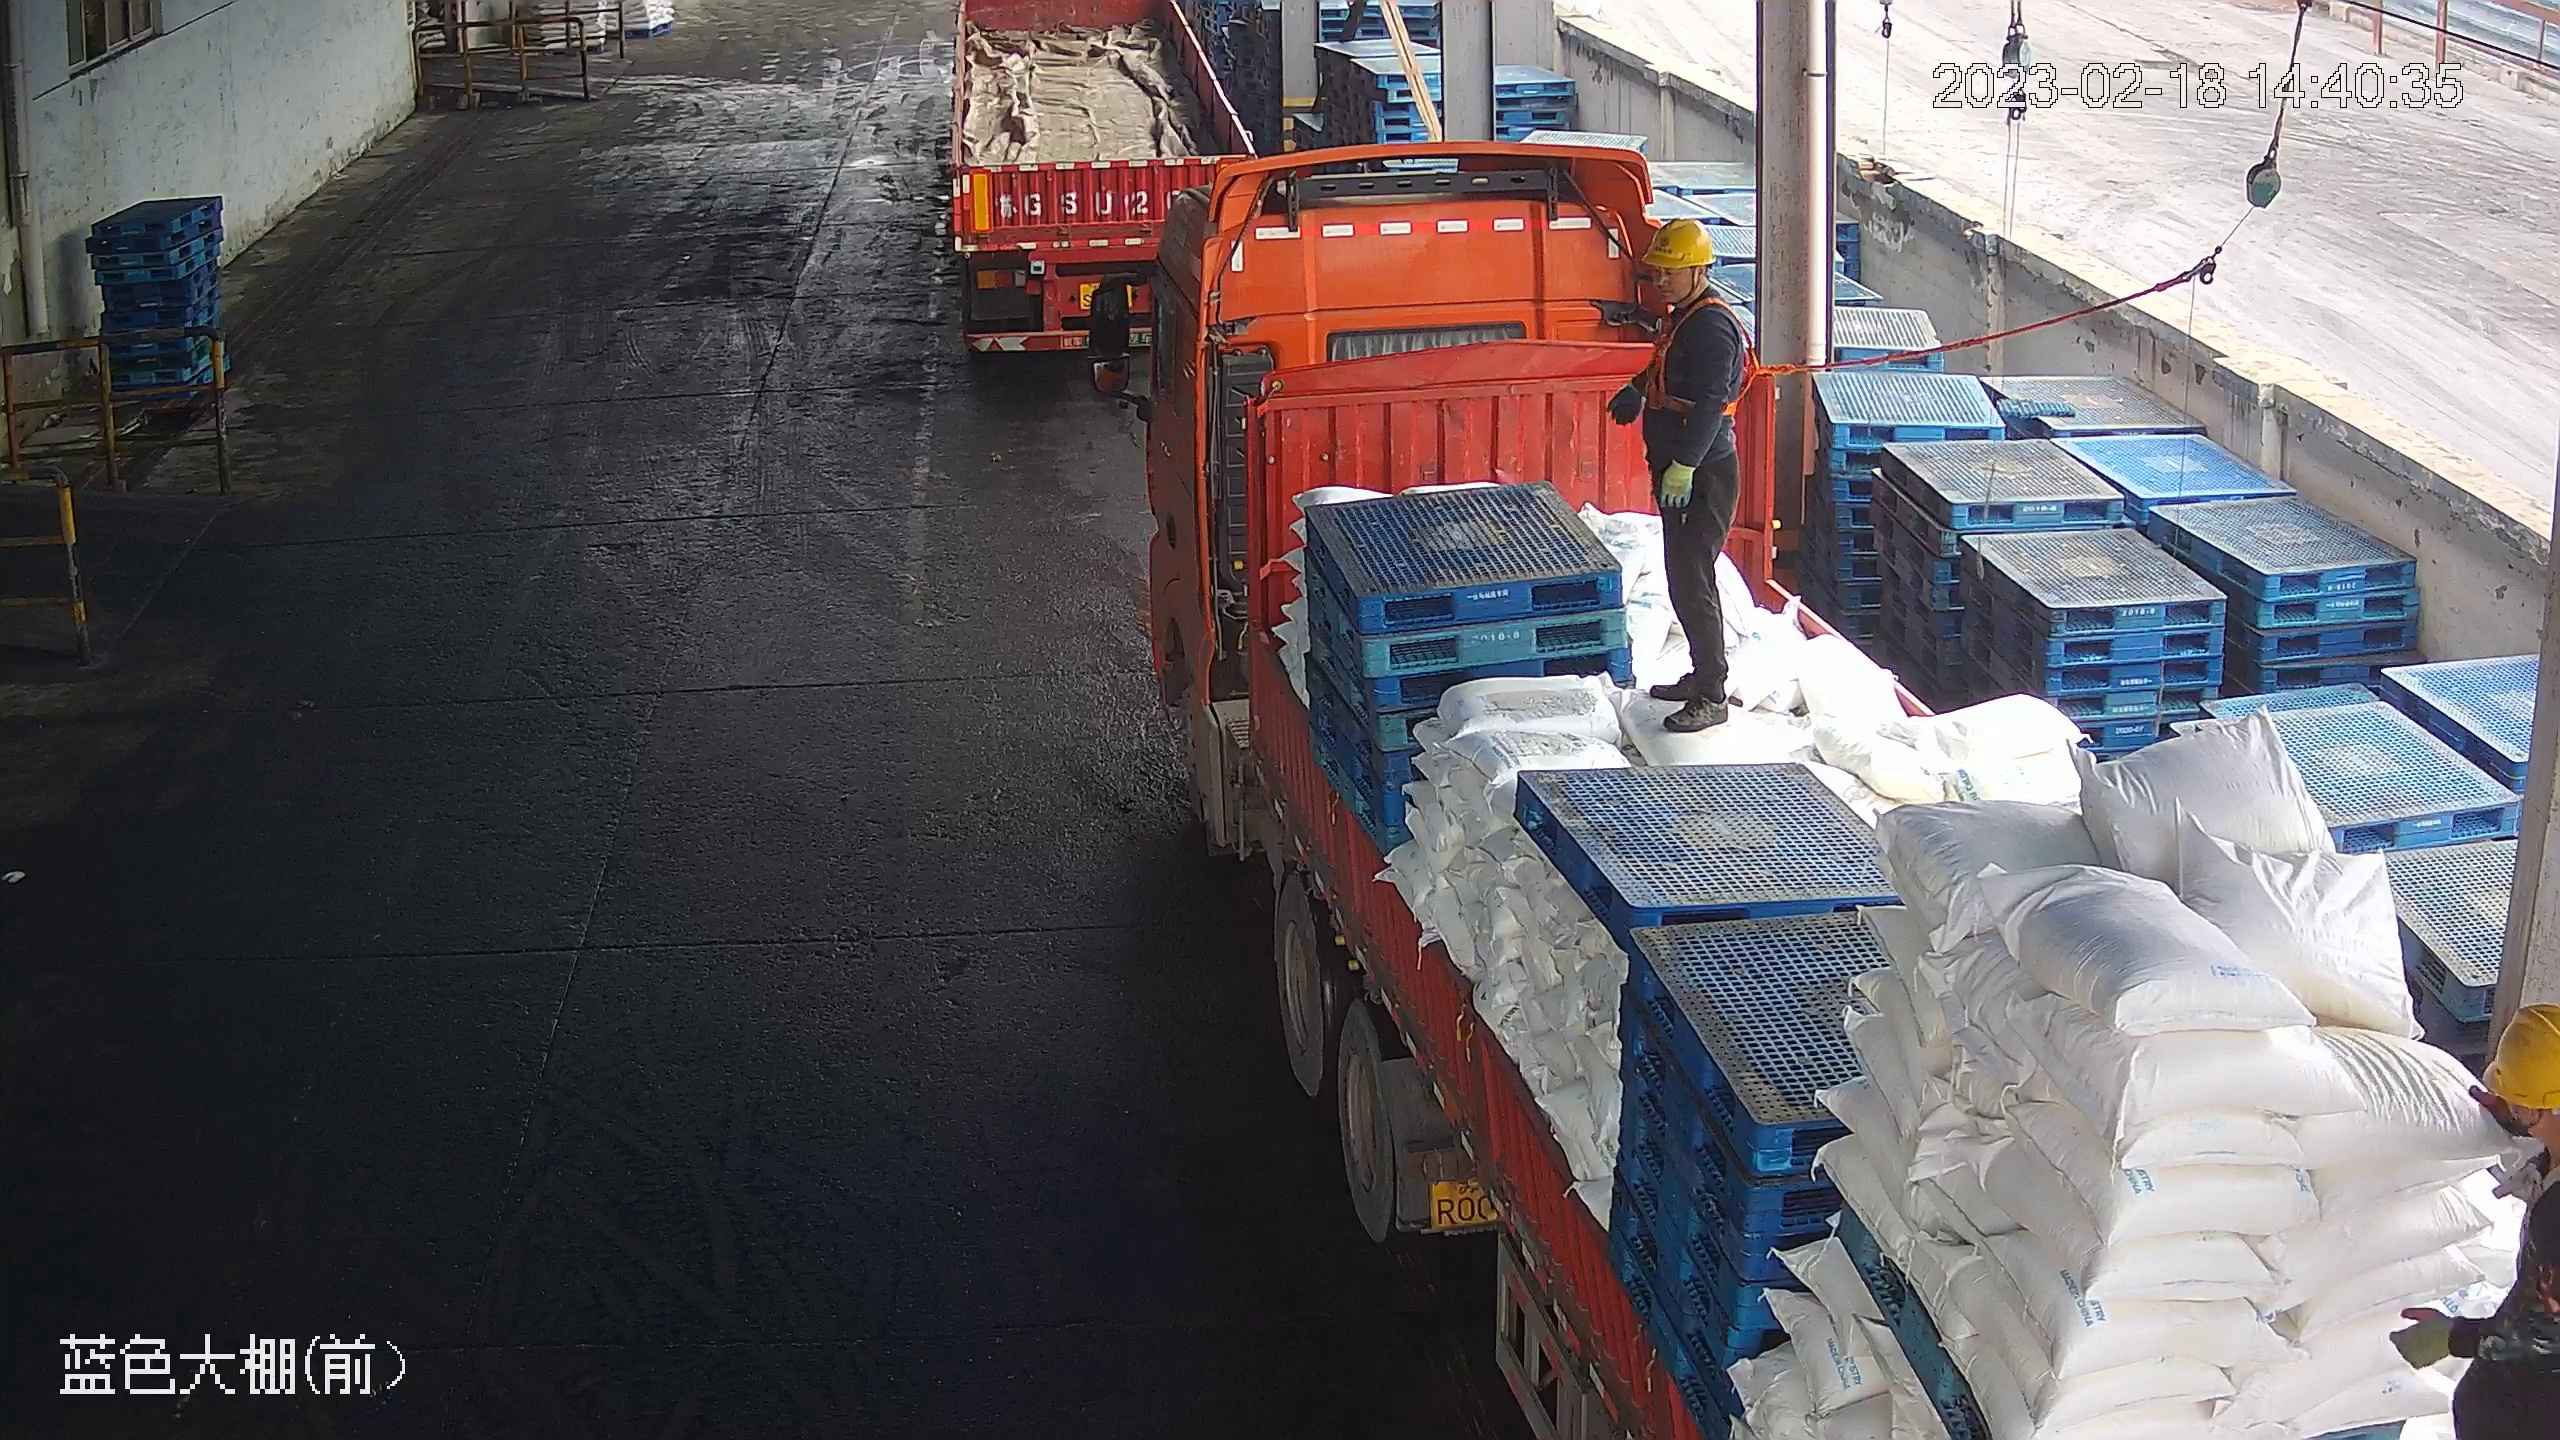belt: (1644, 293, 1760, 419), (2519, 1118, 2560, 1321)
head: (2468, 997, 2560, 1242), (1625, 215, 1755, 365)
helmet: (2479, 999, 2560, 1107), (1644, 214, 1718, 272)
people: (1605, 212, 1760, 734)
truck: (1085, 148, 2560, 1440), (930, 4, 1271, 360)
